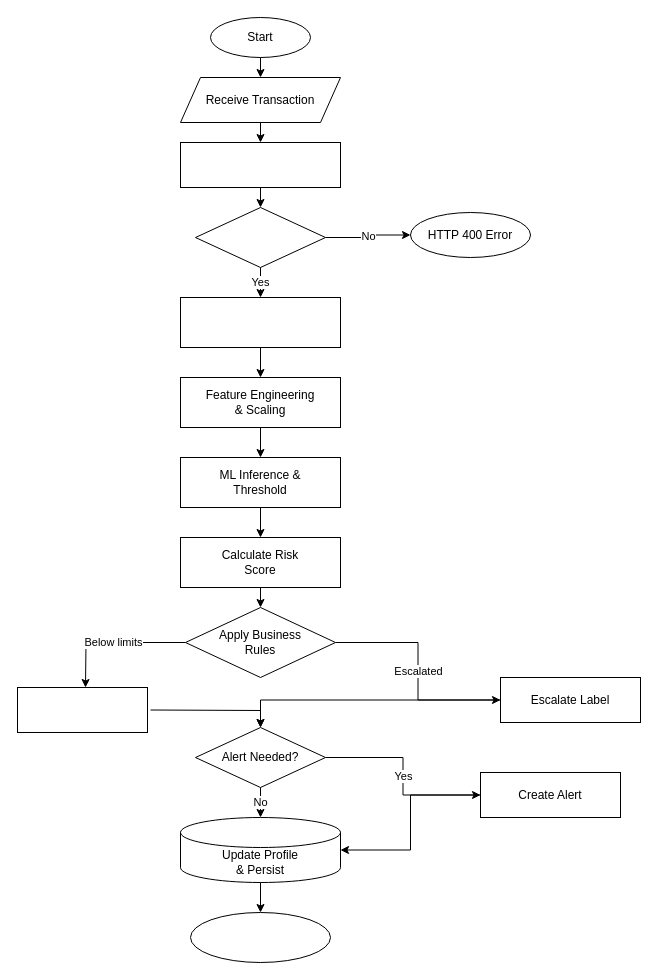
Image size: 658x980. Some labels were removed from this diagram. The shapes that lost their labels are listed below. From the top down, each one's box as (x1, y1, x2, y2) in pixels, then its label:
(180, 142, 340, 188): Parse & Sanitize
(194, 206, 326, 268): Valid?
(180, 296, 340, 348): Load Profile & Analyze Behavior
(16, 686, 148, 732): Normal
(190, 912, 330, 962): Return Response
